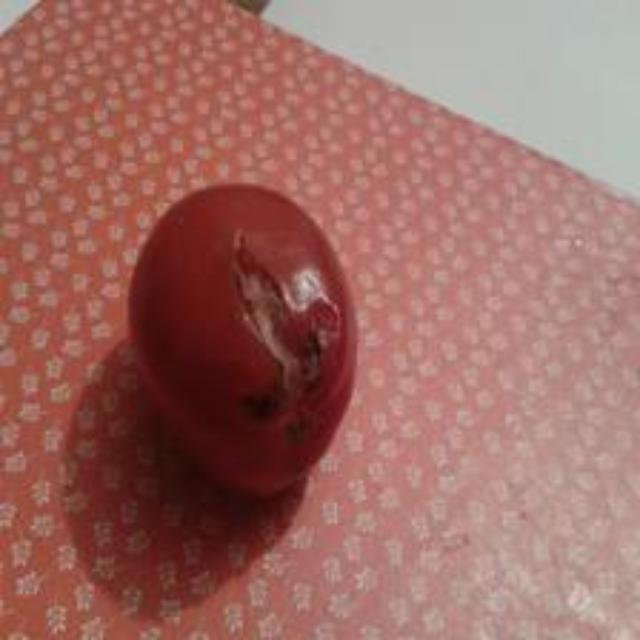defect: (126, 178, 363, 500)
